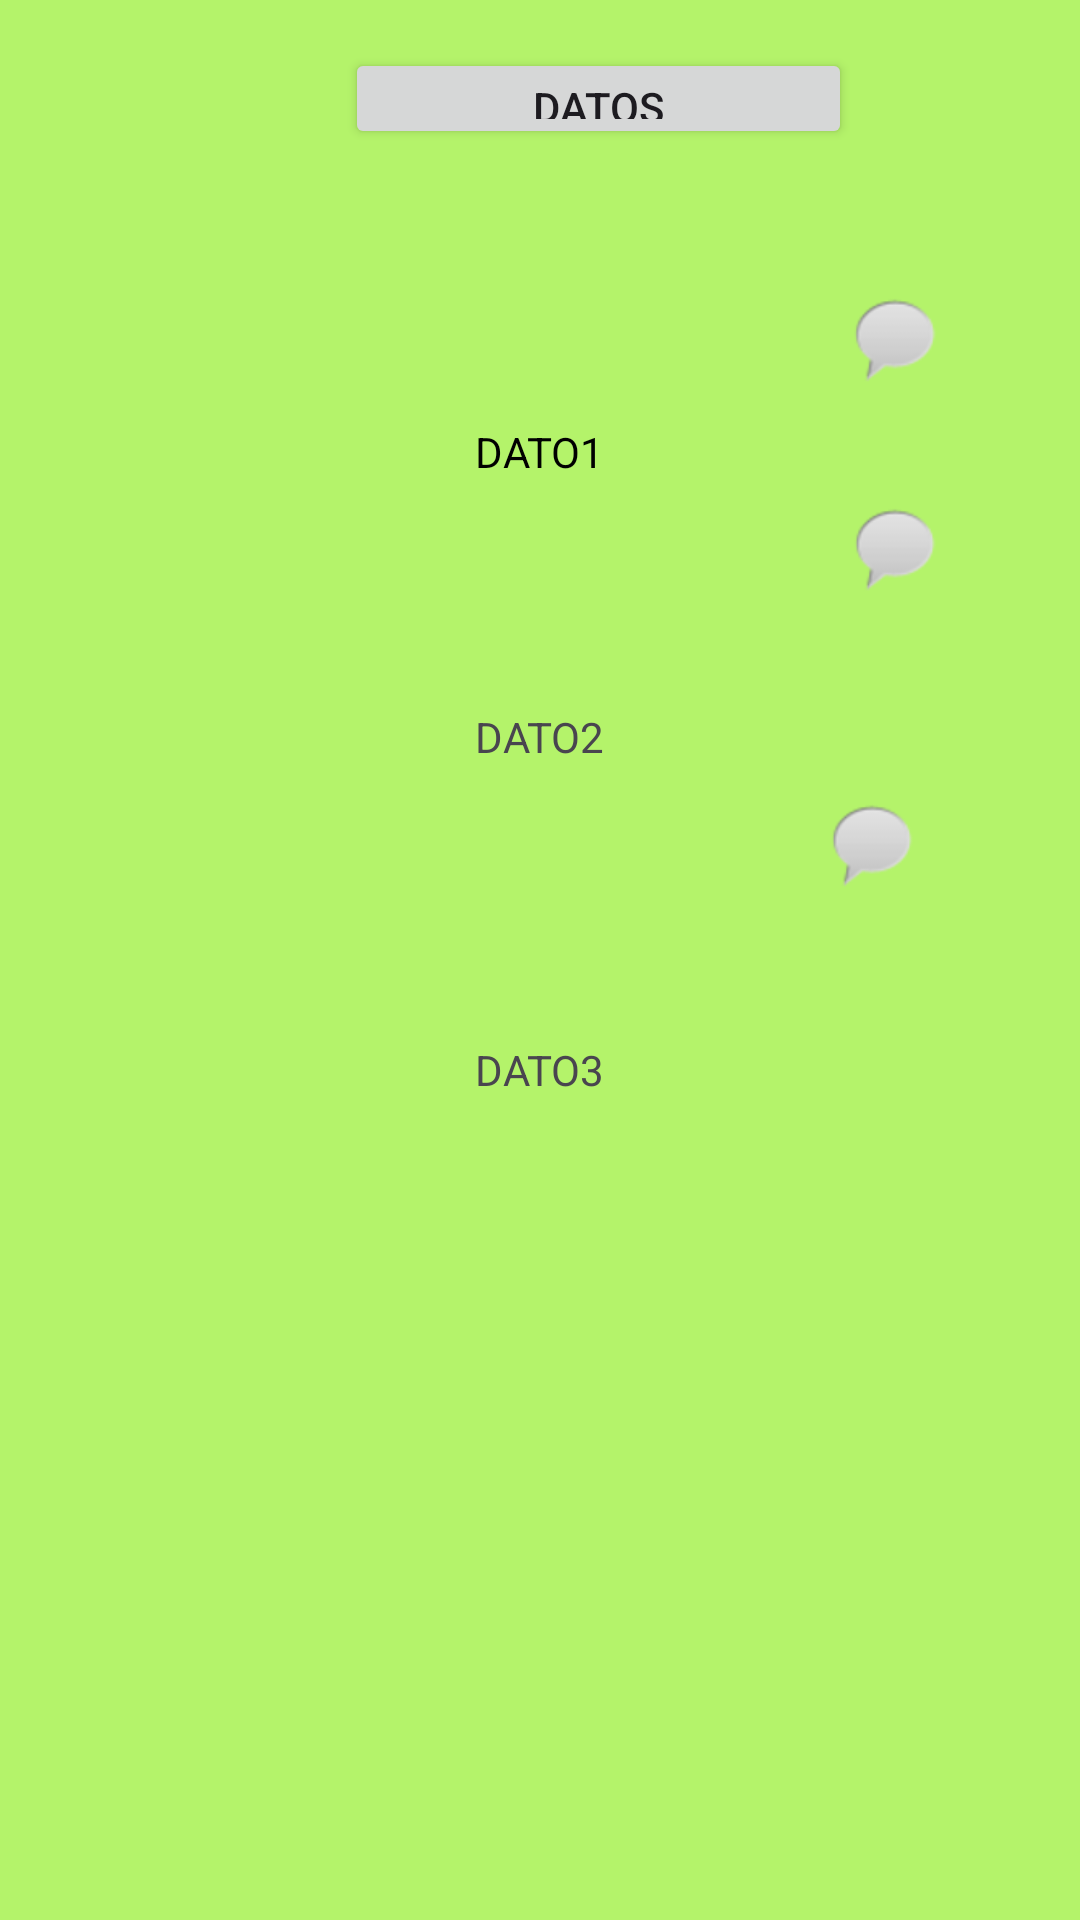

Icon click points for this 1080w x 1920h phone screenshot, format (x=x, y=y):
sym action chat: (x=895, y=340), (x=895, y=549), (x=872, y=845)
